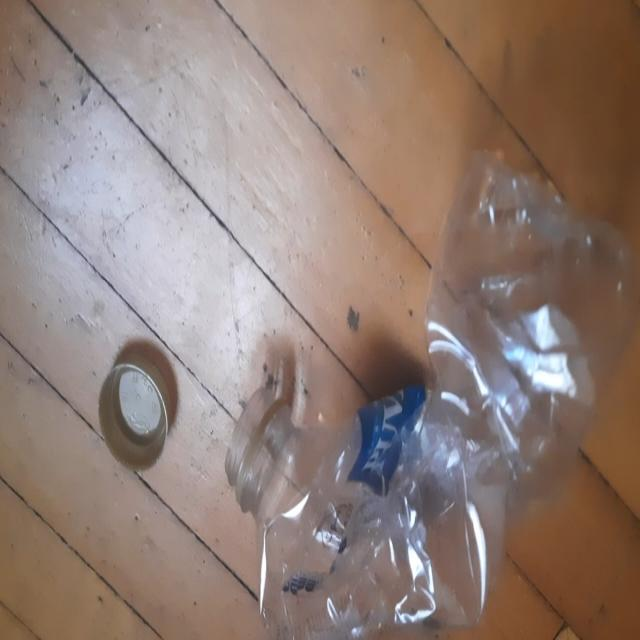Plastic: (229, 146, 637, 636)
